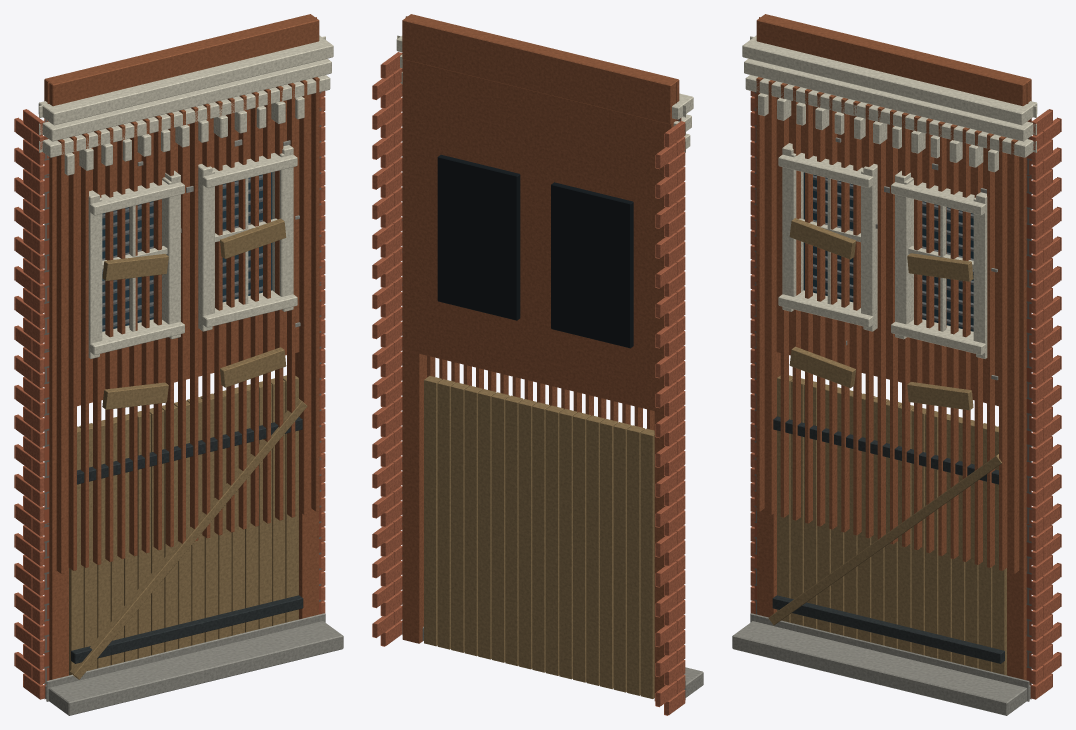
The model's file is CLSTGA20_lod0.glb.
The picture shows the model from 3 angles, left to right: view 1: azimuth 30°, elevation 25°; view 2: azimuth 150°, elevation 25°; view 3: azimuth 330°, elevation 25°; orthographic projection.
Visible parts, largest first — view 1: CLSTGA20_FRONT_LOD0; view 2: CLSTGA20_FRONT_LOD0; view 3: CLSTGA20_FRONT_LOD0.
Boxes of the visible parts, box(x1,y1,x2,y2) form: CLSTGA20_FRONT_LOD0: box(14, 14, 343, 715); CLSTGA20_FRONT_LOD0: box(372, 14, 703, 715); CLSTGA20_FRONT_LOD0: box(732, 14, 1061, 715).
Bounding box in the file's own units: 3.44 × 7.05 × 1.02.
Materials: 12 (10 with a texture image).
